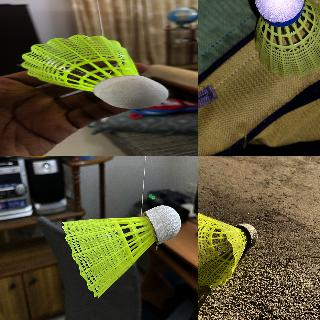shuttlecock: (20, 34, 167, 108), (62, 205, 180, 297), (253, 0, 319, 79), (198, 212, 258, 288)
